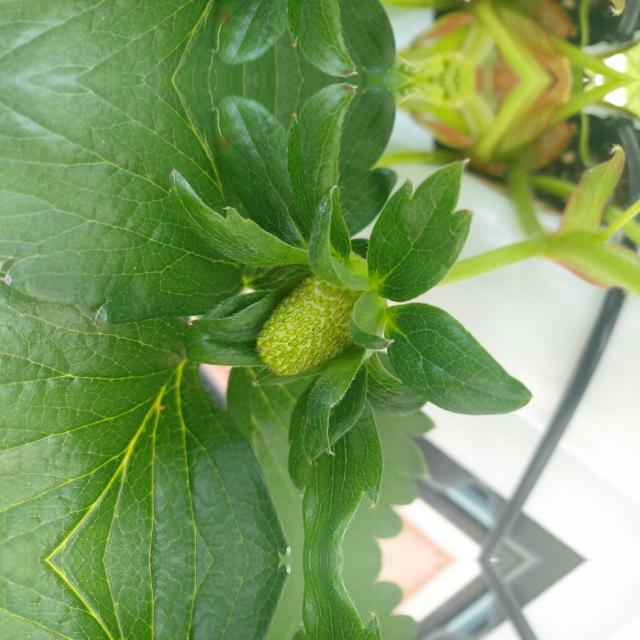Health_25: (255, 269, 368, 376)
